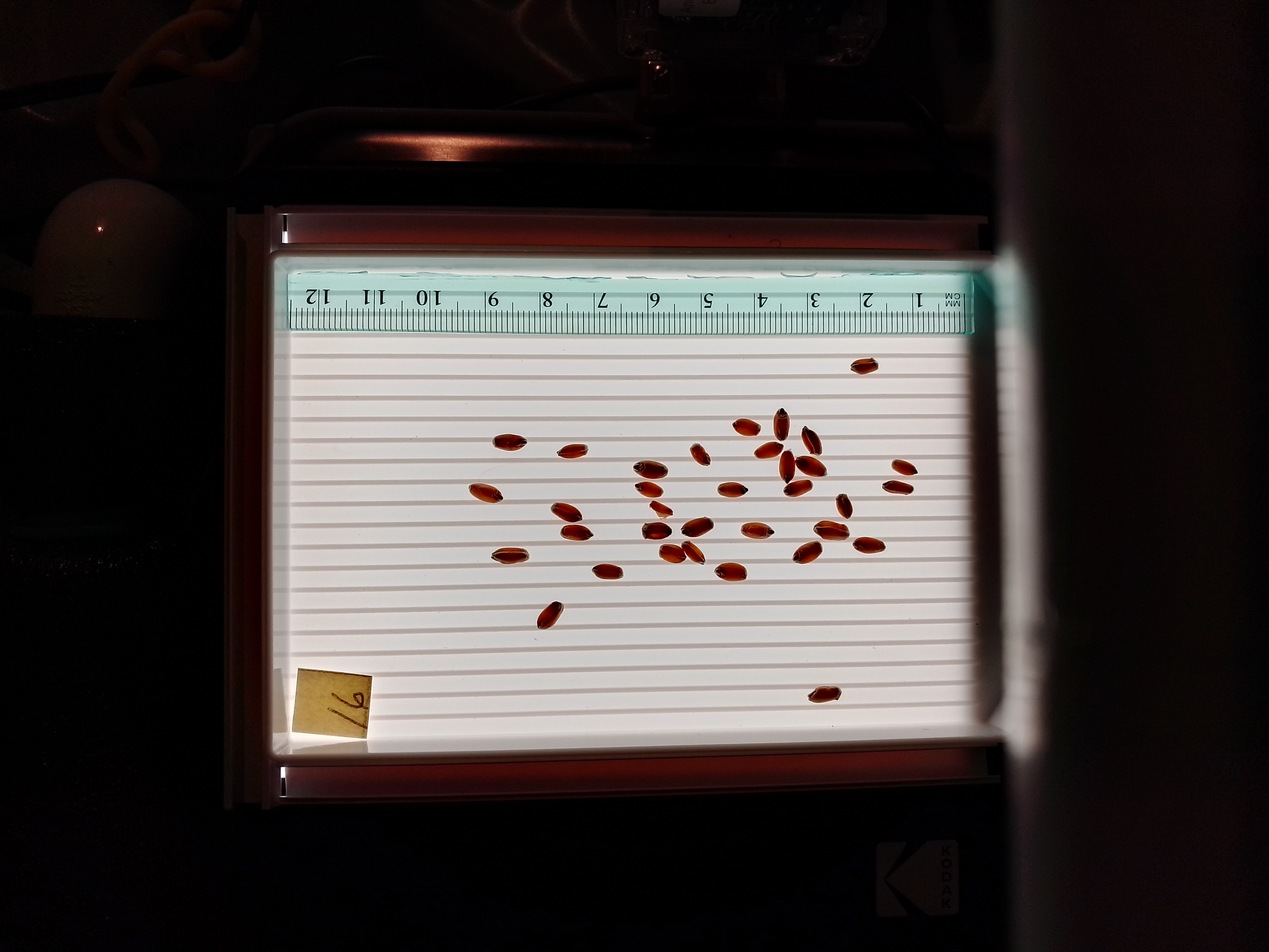seed mask: (537, 602, 564, 629), (814, 521, 850, 541), (469, 484, 503, 503), (794, 542, 822, 564), (635, 461, 667, 479), (492, 548, 528, 564), (683, 518, 713, 537), (552, 503, 582, 522), (808, 686, 841, 703), (715, 563, 746, 581), (797, 457, 826, 476), (494, 434, 526, 451), (803, 427, 822, 455), (773, 409, 790, 440), (854, 537, 884, 554), (743, 523, 773, 539), (643, 522, 671, 539), (660, 545, 685, 564), (562, 526, 593, 541), (683, 543, 705, 564), (852, 358, 878, 375), (734, 419, 760, 436), (718, 483, 747, 498), (594, 565, 623, 580), (785, 481, 812, 497), (755, 443, 782, 459), (780, 452, 794, 482), (558, 445, 587, 459), (691, 445, 710, 465), (893, 460, 916, 476), (636, 483, 662, 497), (836, 496, 852, 518), (650, 502, 673, 517), (884, 482, 912, 494)
